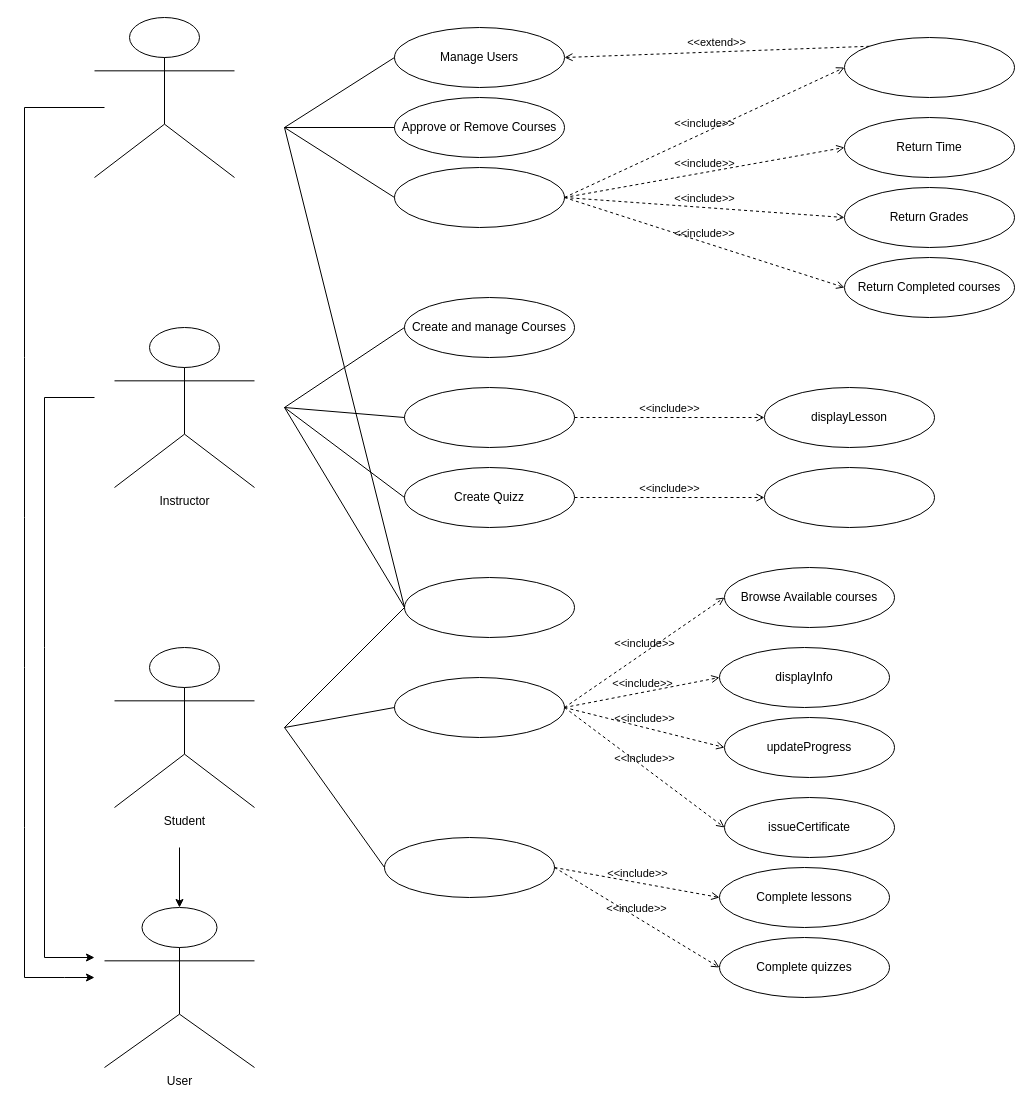
Image size: 1032x1106. Some labels were removed from this diagram. Each missing label, with the centre of its shape:
"Admin" belongs at point 164,97.
"Earn Certificate" belongs at point 469,867.
"Enroll" belongs at point 479,707.
"evaluate" belongs at point 849,497.
"Login And Register" belongs at point 489,607.
"Update Analytics" belongs at point 929,67.
"Upload Lessons" belongs at point 489,417.
"View Analytics" belongs at point 479,197.
